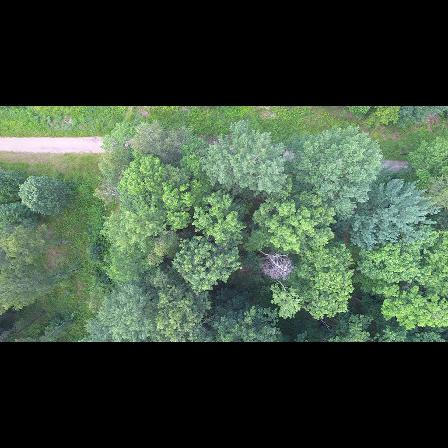Dead: (256, 246, 295, 283)
